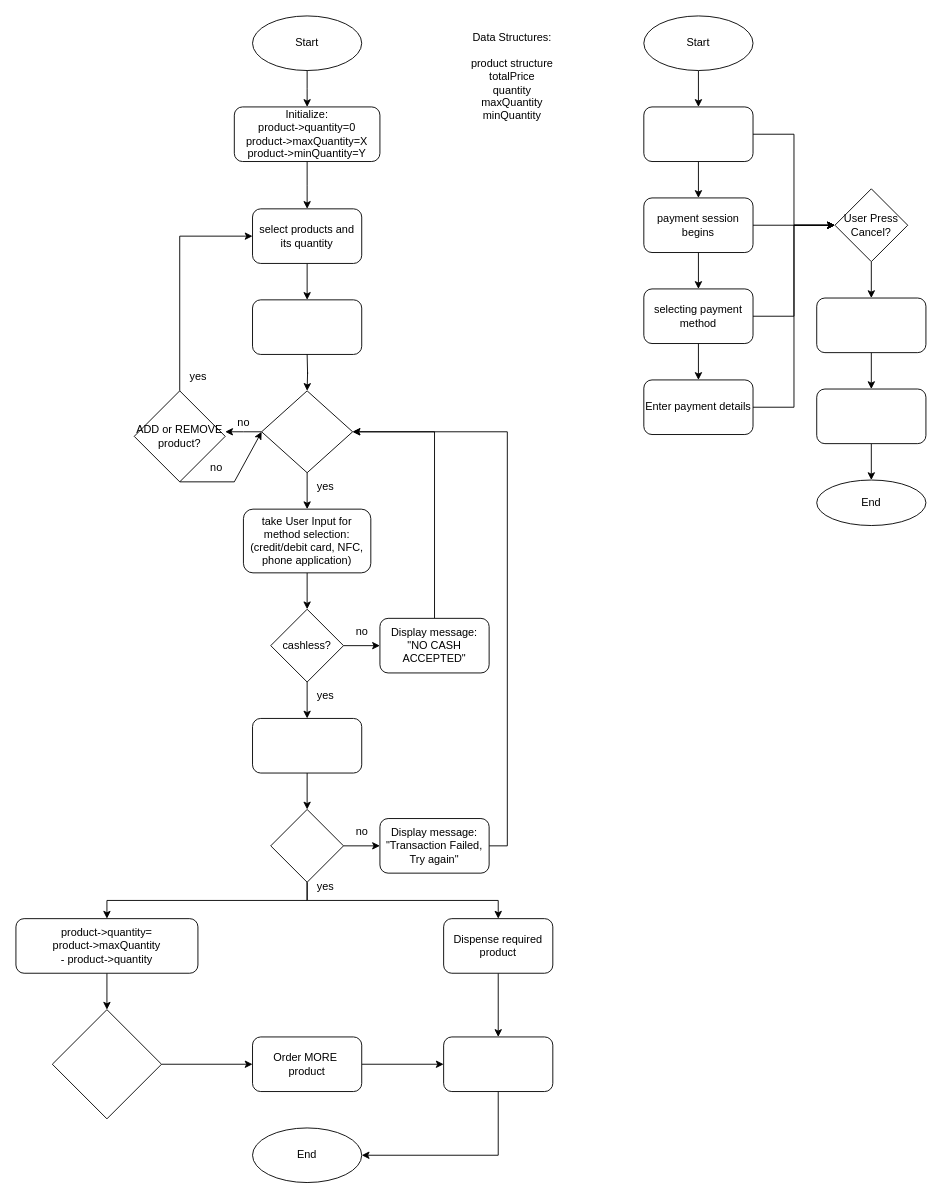
This 942x1198 diagram has some shape labels left out. Each missing label, with the centre of its shape:
determine product->totalPrice: point (307, 326)
Display message: "Press Cancel to EXIT session": point (698, 134)
Enter payment details or tap: point (307, 745)
if product->quantity <= product->minQuantity: point (106, 1064)
initialize payment session?: point (307, 431)
payment Approved?: point (307, 845)
session terminated: RESET Values of ALL variable: point (871, 325)
update product structure: point (498, 1064)
upgrade product structure: point (871, 416)
